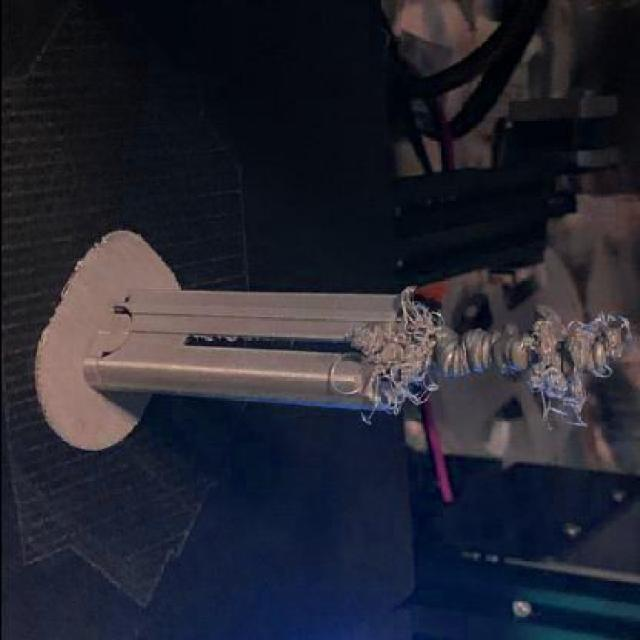Spaghetti: (327, 281, 633, 427)
